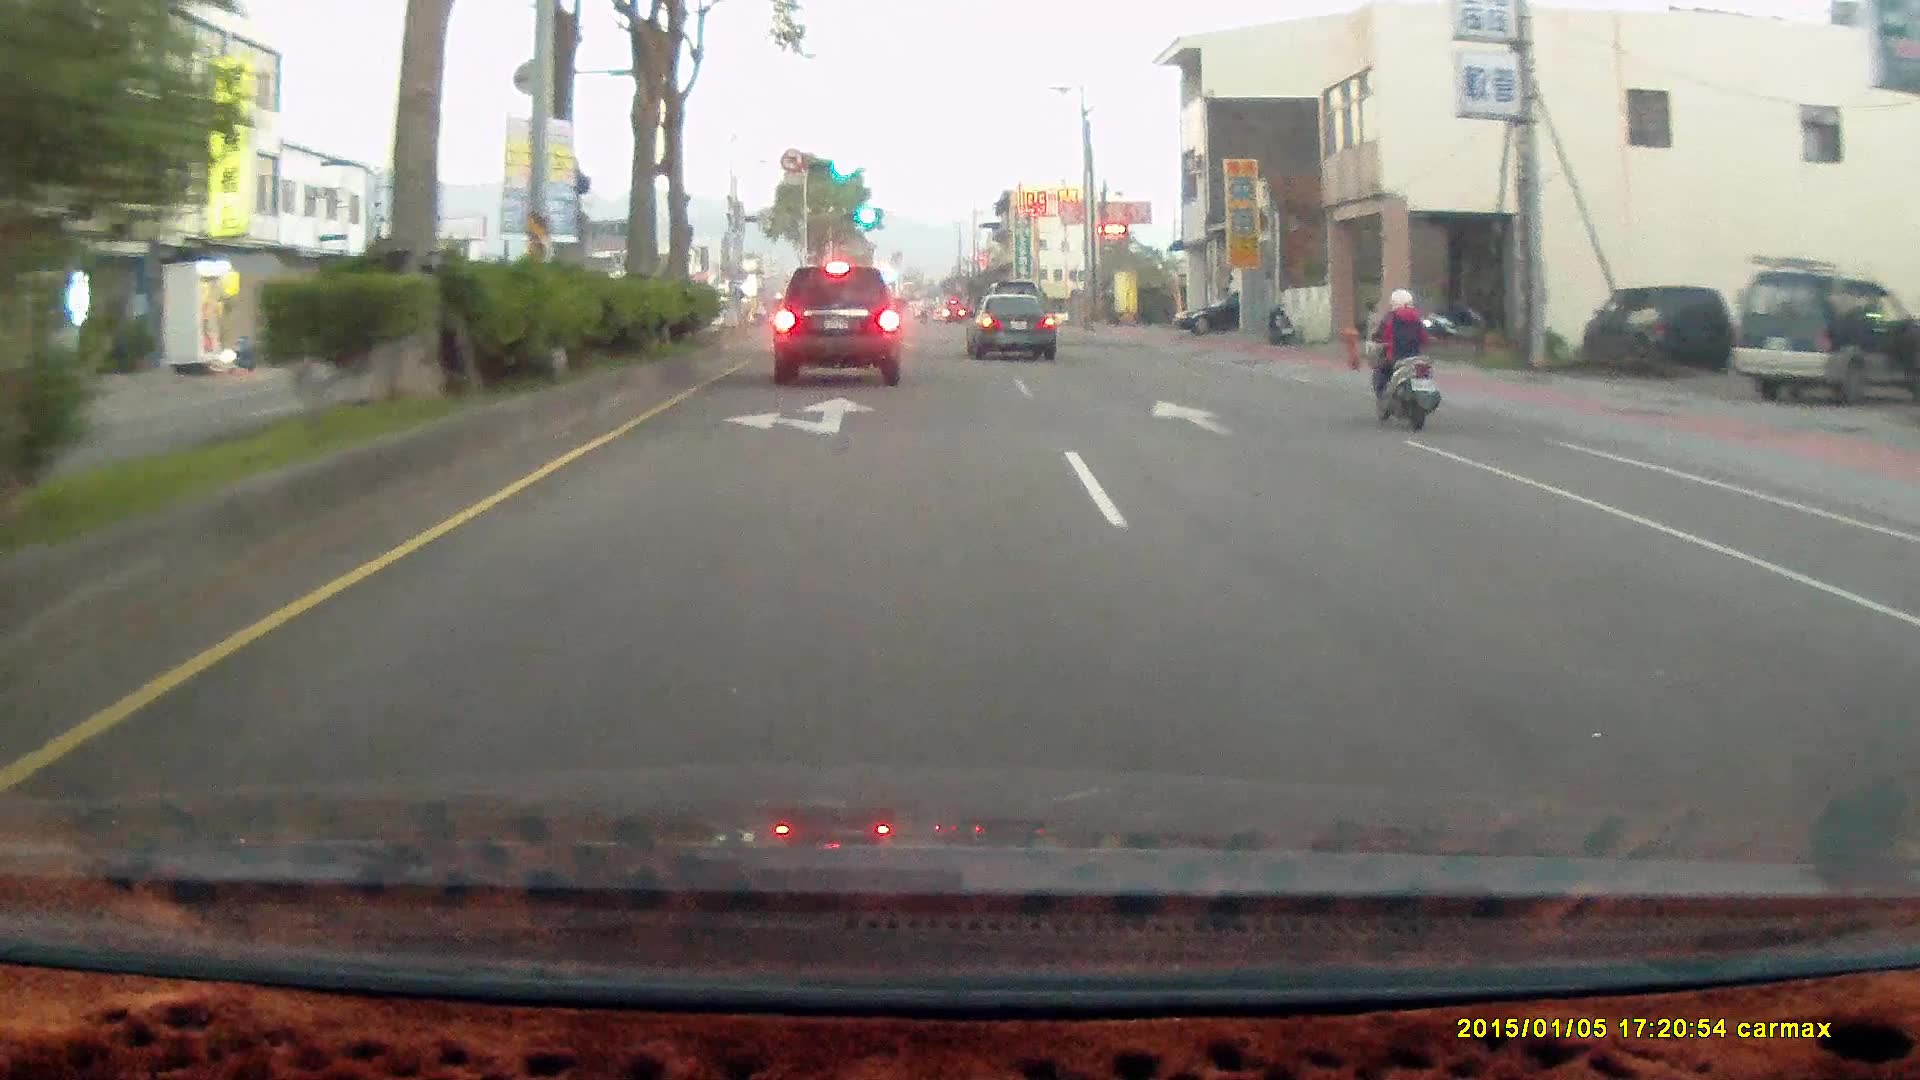rider: (1350, 275, 1455, 440), (1362, 283, 1441, 428)
vehicle: (1728, 270, 1920, 404), (1737, 272, 1898, 402), (767, 257, 909, 384), (774, 265, 907, 386), (1581, 282, 1731, 375), (1582, 283, 1730, 373), (964, 294, 1060, 361), (966, 291, 1054, 356), (1174, 289, 1287, 336), (1173, 289, 1244, 338)
